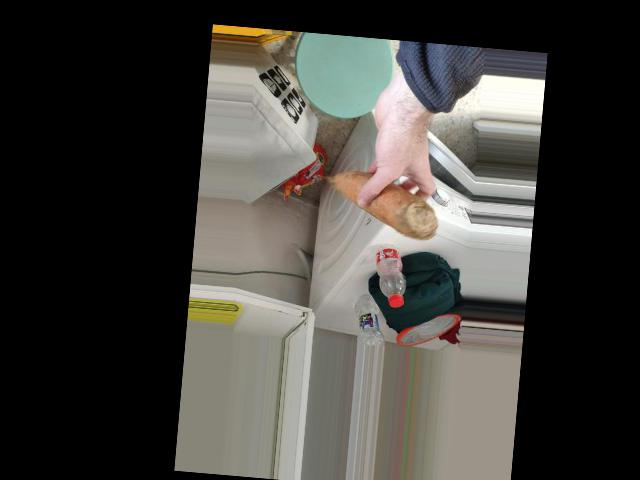sweet_potato: (331, 160, 435, 245)
